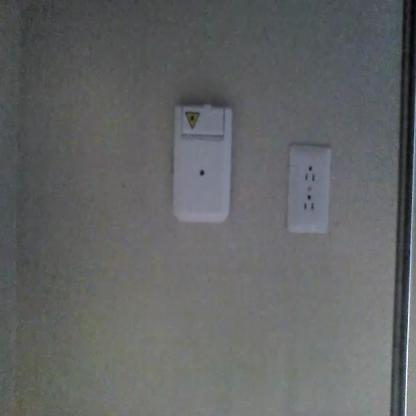OUTLET: (287, 143, 332, 235)
